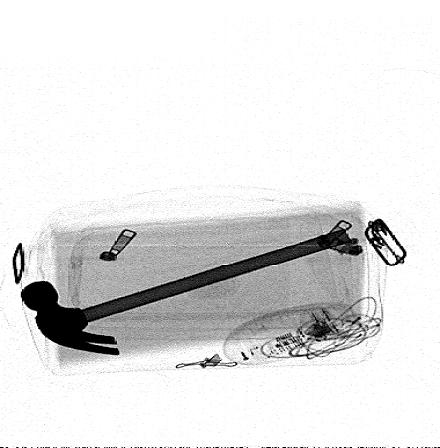Hammer: (18, 228, 354, 357)
